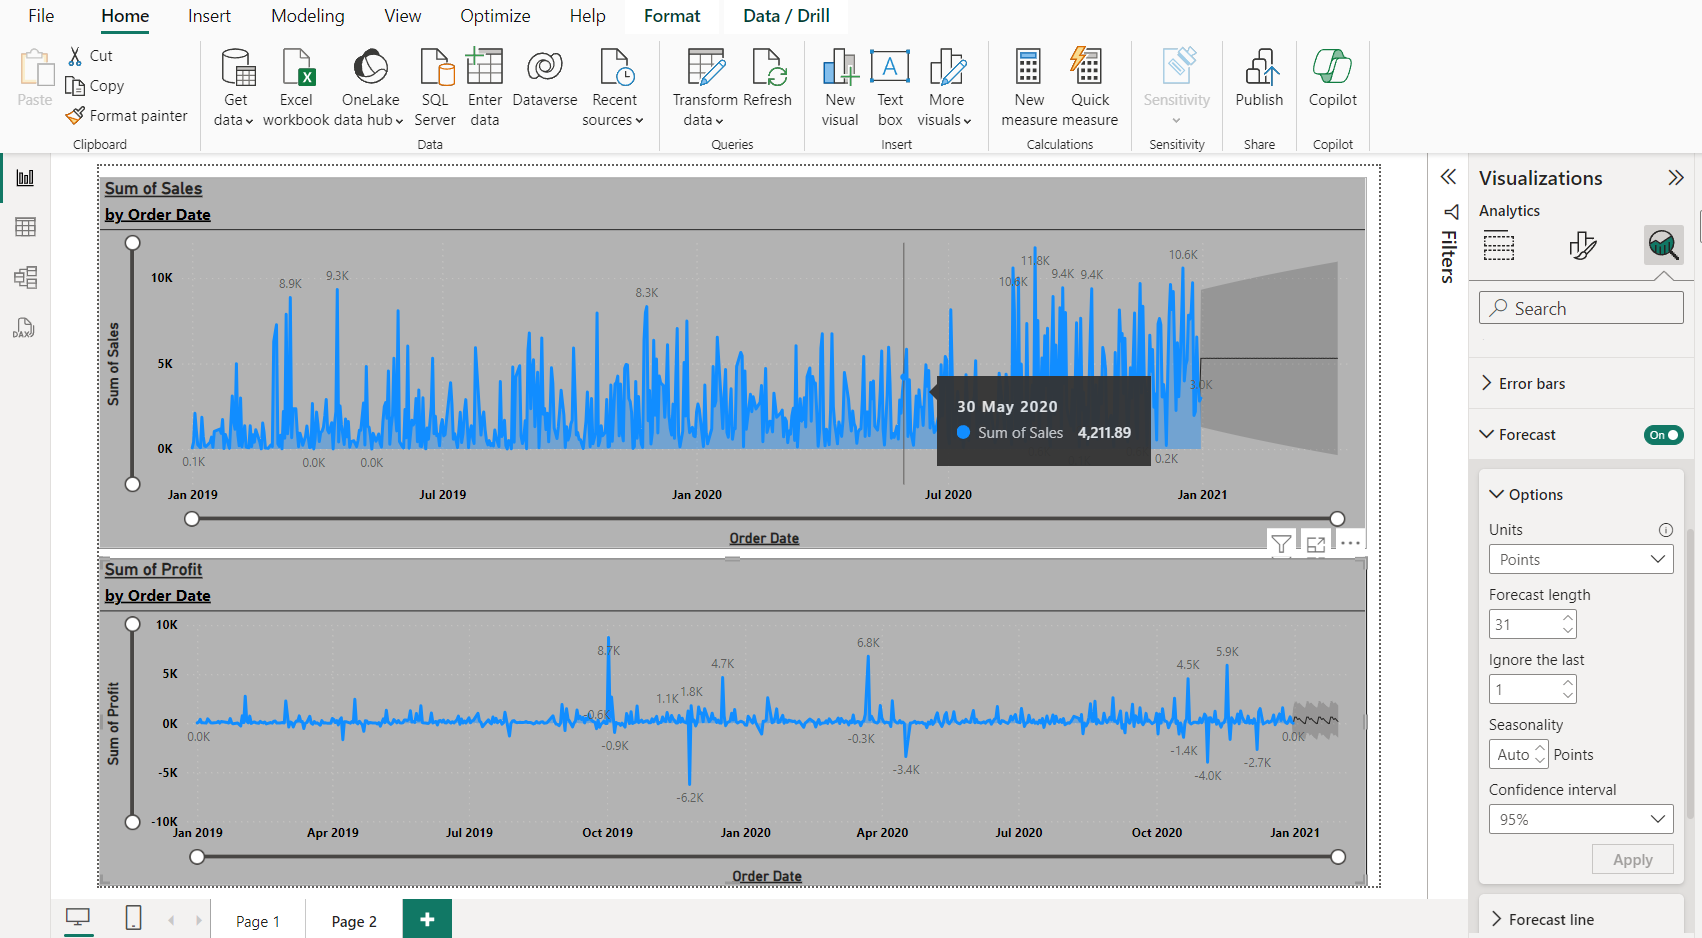

The page's visual inventory and layout, read from the dashboard file:
{"tool":"powerbi","page":{"name":"Page 2","canvas":[1280,720],"ordinal":1},"visuals":[{"type":"lineChart","fields":{"Y":["Sum(SuperStore_Sales_Dataset.Sales)"],"Category":["SuperStore_Sales_Dataset.Order Date"]},"box":[0,11.2,1267.5,371.2],"z":0},{"type":"lineChart","fields":{"Y":["Sum(SuperStore_Sales_Dataset.Profit)"],"Category":["SuperStore_Sales_Dataset.Order Date"]},"box":[0,392,1268,328],"z":1000}]}

Visuals, with their boxes on the page's 1280x720 design canvas (x1, y1, x2, y2). These are canvas units, not pixel positions in the 1702x938 screenshot, which may show the page scaled, cropped or inside an application window:
lineChart - Sum(SuperStore_Sales_Dataset.Sales) x SuperStore_Sales_Dataset.Order Date: <region>0, 11, 1268, 382</region>
lineChart - Sum(SuperStore_Sales_Dataset.Profit) x SuperStore_Sales_Dataset.Order Date: <region>0, 392, 1268, 720</region>
